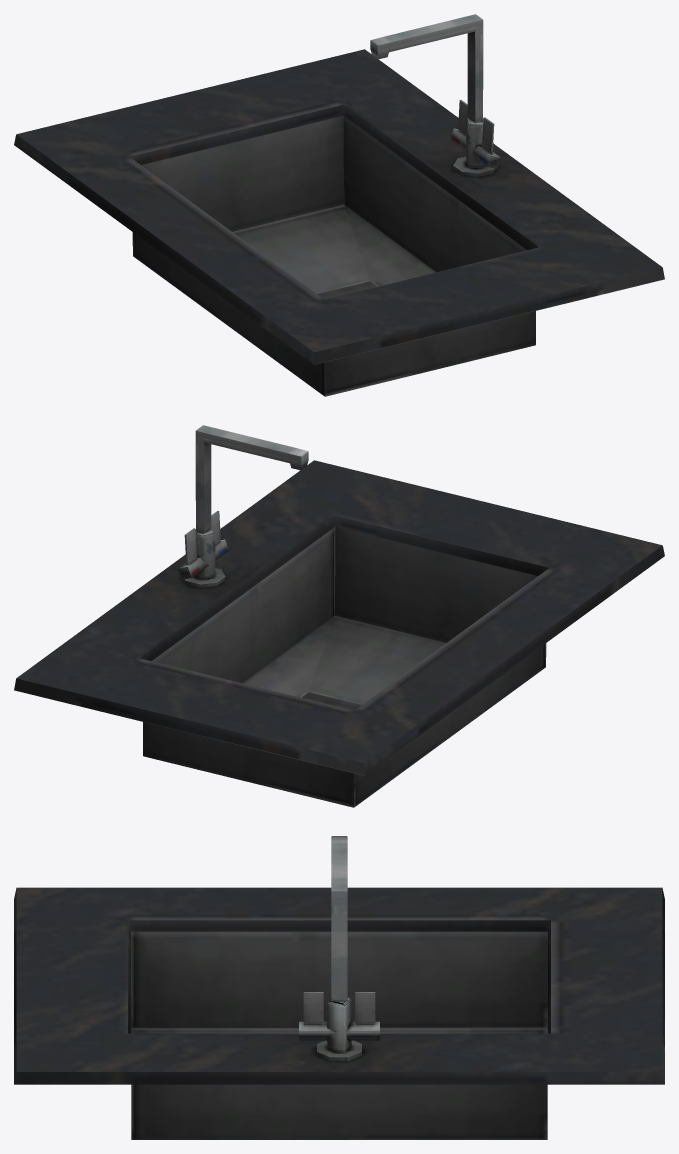
File: p6_modern_kitchen_sink_lod2.glb
The picture shows the model from 3 angles, top to bottom: view 1: azimuth 30°, elevation 25°; view 2: azimuth 150°, elevation 25°; view 3: azimuth 270°, elevation 25°; orthographic projection. The views are drawn at different scales.
Visible parts, largest first — view 1: surf0; view 2: surf0; view 3: surf0.
Part boxes in pixels (left/top/right/bottom): surf0: left=14, top=14, right=664, bottom=396; surf0: left=14, top=425, right=664, bottom=807; surf0: left=14, top=836, right=664, bottom=1139.
Bounding box in the file's own units: 26.85 × 19.08 × 39.84.
